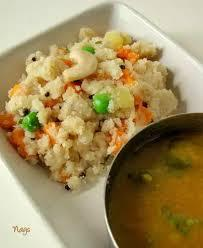sambhar: (109, 129, 202, 247)
upma: (0, 35, 179, 191)
